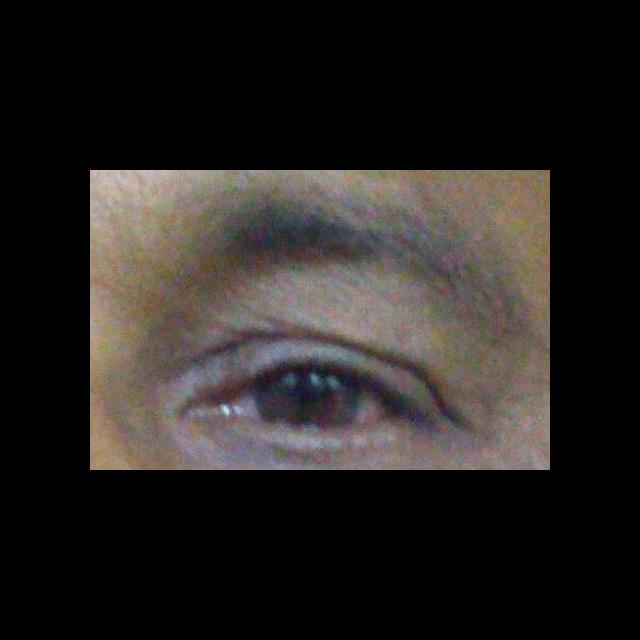eye: (241, 366, 388, 430)
iris: (256, 370, 362, 427)
